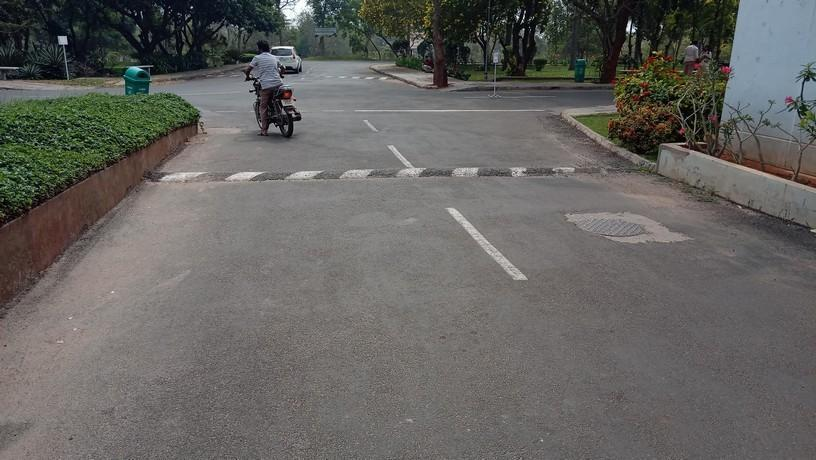speedbreaker: (148, 166, 639, 186)
